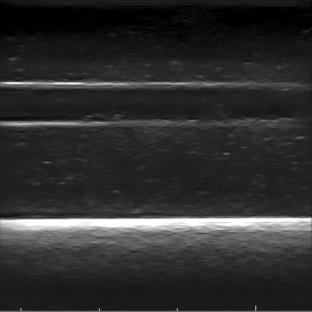vessel: (0, 80, 206, 129)
